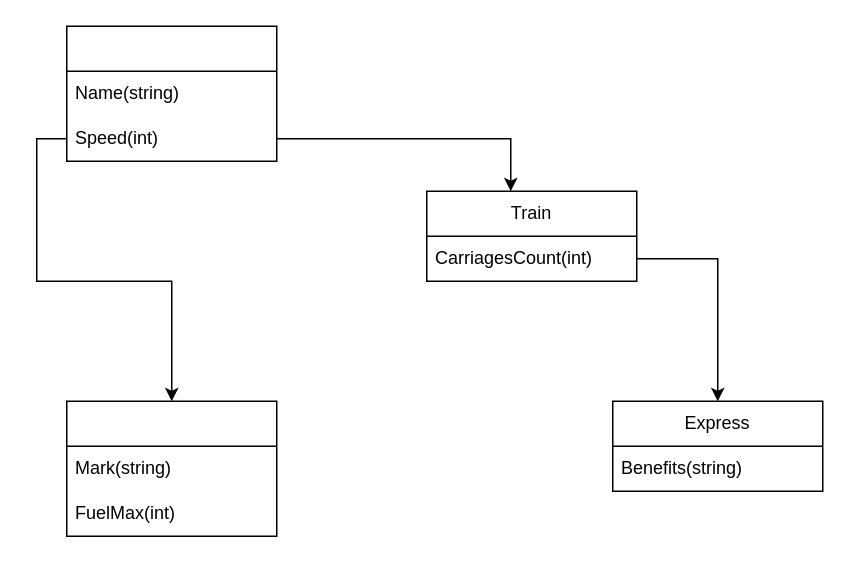
Some shapes in this 849 by 563 pixel diagram are drawn without their labels. The shapes that lost their labels are listed below. From the top down, each one's box as (x1, y1, x2, y2) in pixels, then its label:
(65, 25, 277, 161): Vehicle
(65, 400, 277, 536): Car
